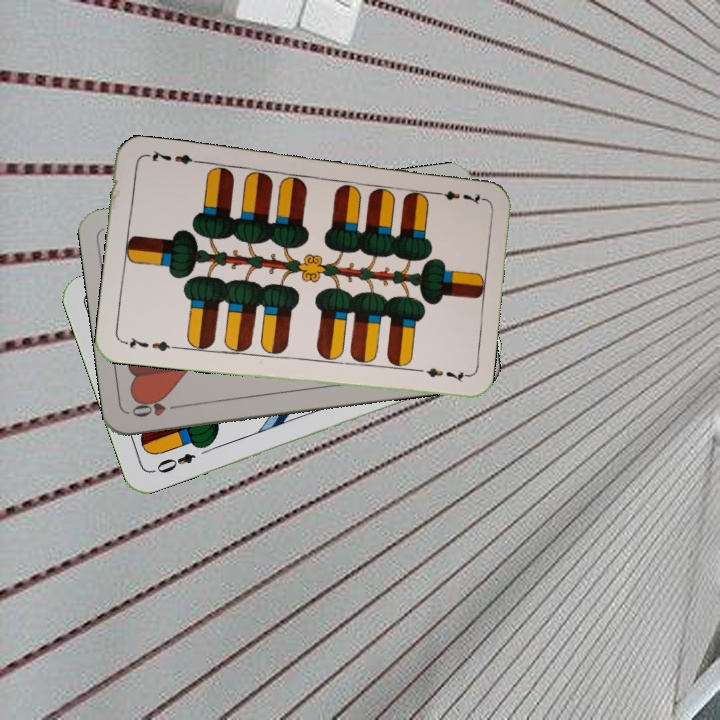E7: (119, 333, 179, 354), (427, 187, 486, 206)
EO: (148, 449, 198, 476)
HO: (128, 395, 186, 420)
